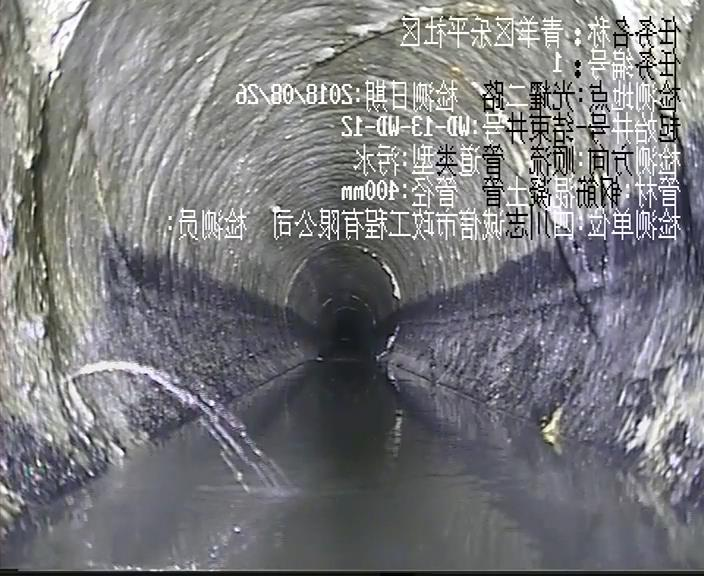SL: (49, 350, 315, 518)
